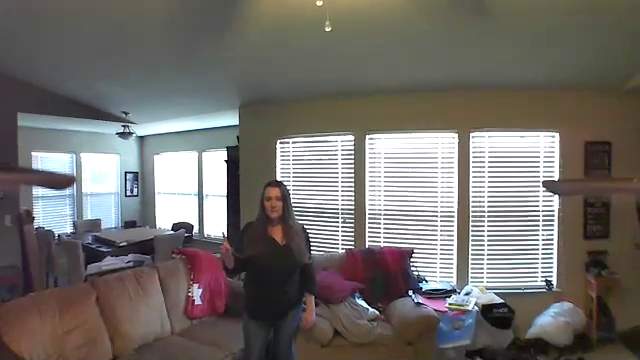up: (213, 230, 238, 261)
